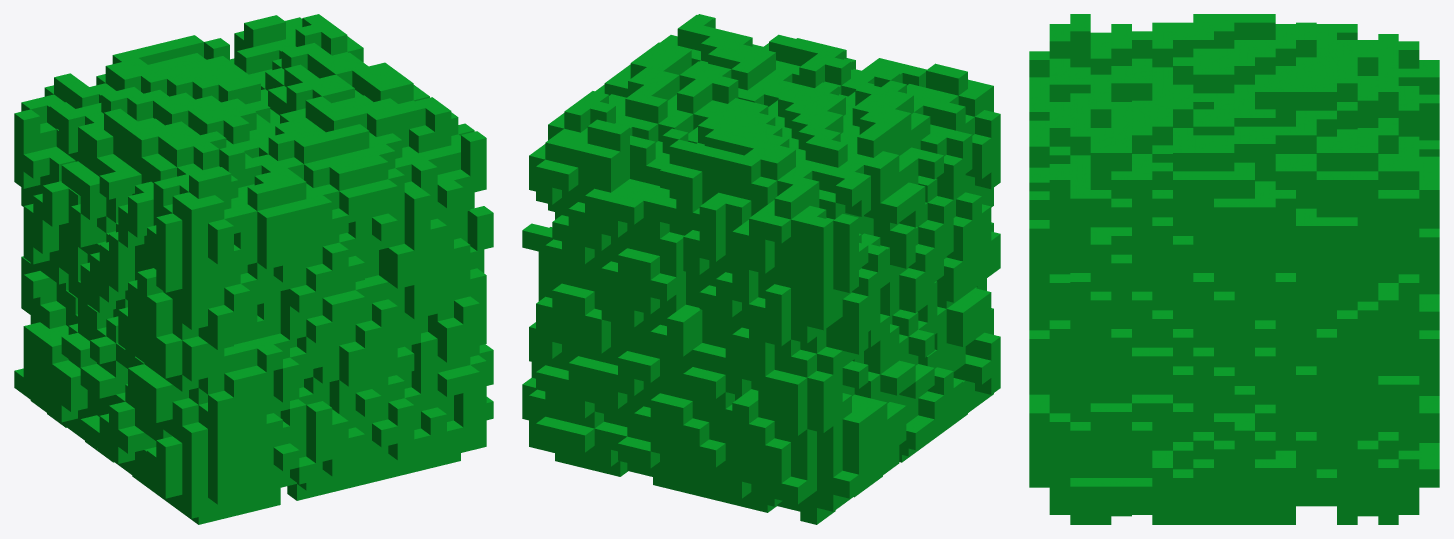
File: Slime.fbx
3 renders of one model, left to right at view 1: azimuth 30°, elevation 25°; view 2: azimuth 150°, elevation 25°; view 3: azimuth 270°, elevation 25°, orthographic. The views are drawn at different scales.
Visible parts, largest first — view 1: slime; view 2: slime; view 3: slime.
Part boxes in pixels (left/top/right/bottom): slime: left=14, top=14, right=493, bottom=524; slime: left=522, top=14, right=1000, bottom=524; slime: left=1029, top=14, right=1439, bottom=524.
Size of the model in its own units: 2000 by 2000 by 2000.
